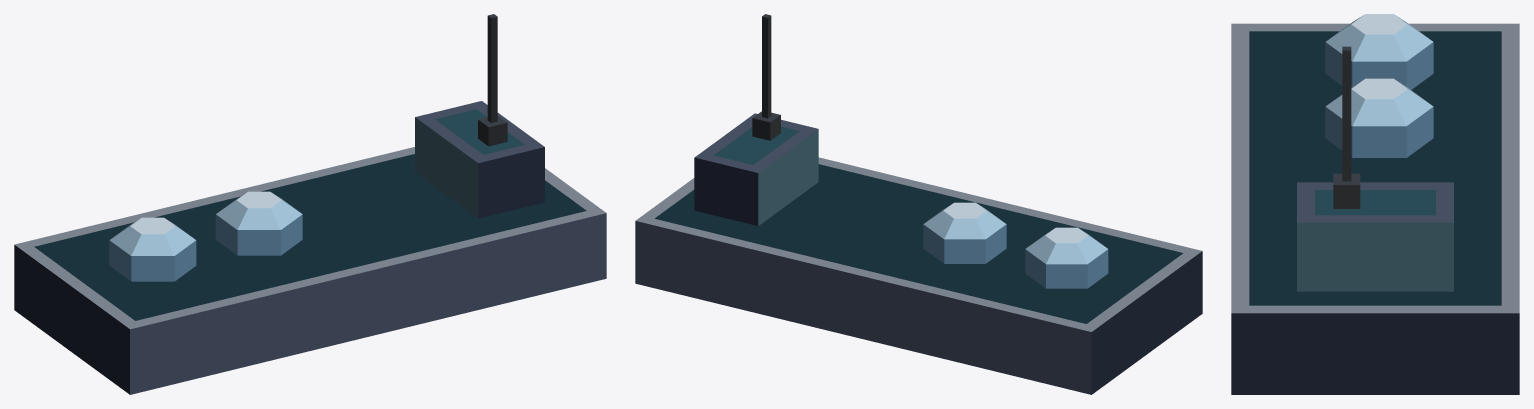
File: TB_CITY_Skysc_C_Top_Blue.FBX
3 renders of one model, left to right at view 1: azimuth 30°, elevation 25°; view 2: azimuth 150°, elevation 25°; view 3: azimuth 270°, elevation 25°, orthographic. The views are drawn at different scales.
Visible parts, largest first — view 1: TB_CITY_Skysc_C_Top_Blue; view 2: TB_CITY_Skysc_C_Top_Blue; view 3: TB_CITY_Skysc_C_Top_Blue.
Part boxes in pixels (x1,y1,x2,y2): TB_CITY_Skysc_C_Top_Blue: (14,14,606,394); TB_CITY_Skysc_C_Top_Blue: (635,14,1202,394); TB_CITY_Skysc_C_Top_Blue: (1231,14,1519,394).
Size of the model in its own units: 38 by 18.68 by 16.
